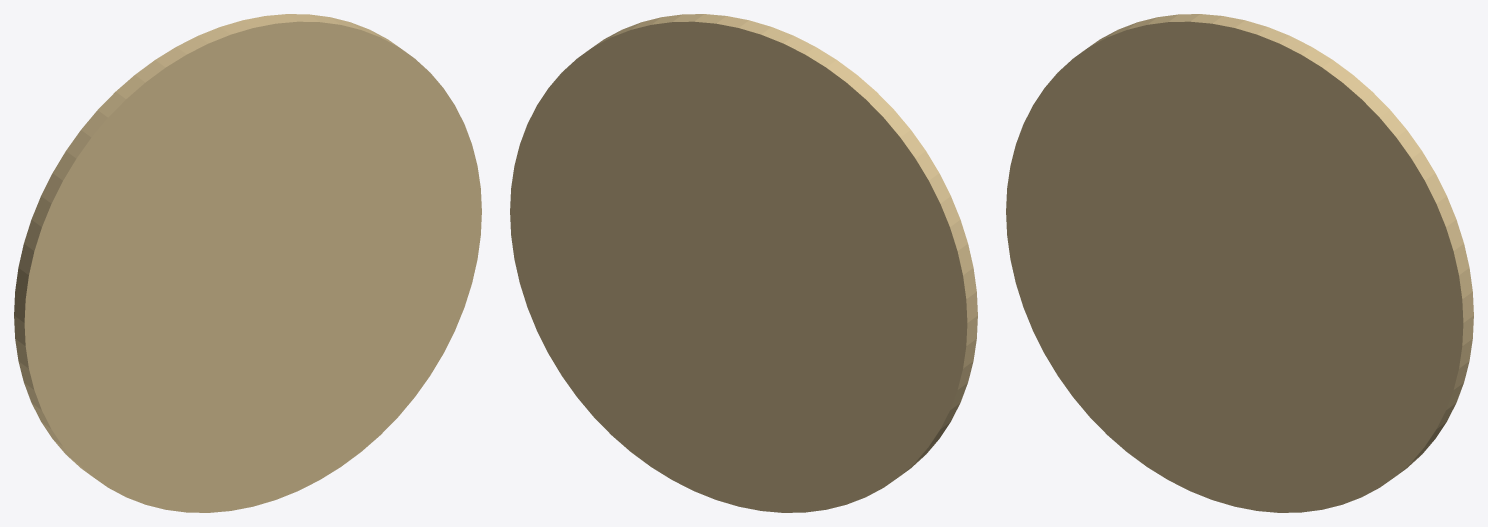
Rendered from plate_disc.glb.
The picture shows the model from 3 angles, left to right: view 1: azimuth 30°, elevation 25°; view 2: azimuth 150°, elevation 25°; view 3: azimuth 330°, elevation 25°; orthographic projection.
Visible parts, largest first — view 1: plate_disc; view 2: plate_disc; view 3: plate_disc.
Boxes of the visible parts, x1=… form: plate_disc: x1=14, y1=14, x2=481, y2=512; plate_disc: x1=510, y1=14, x2=977, y2=512; plate_disc: x1=1006, y1=14, x2=1473, y2=512.
Size of the model in its own units: 2 by 2 by 0.08.
